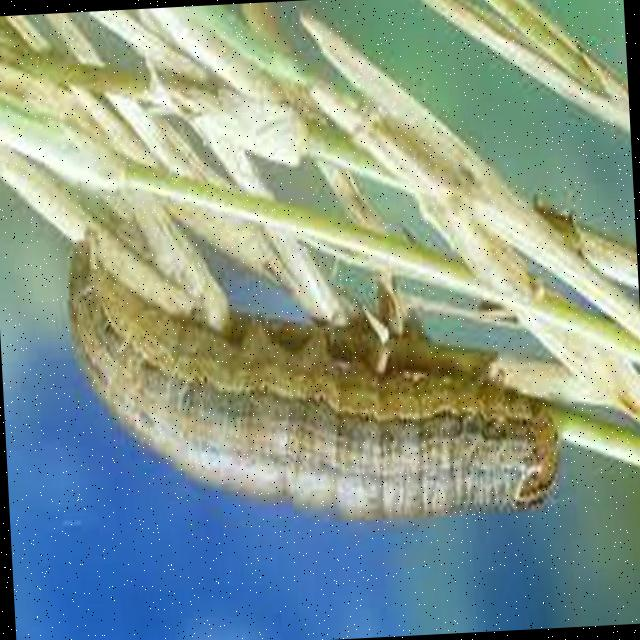worm: (62, 197, 570, 544)
